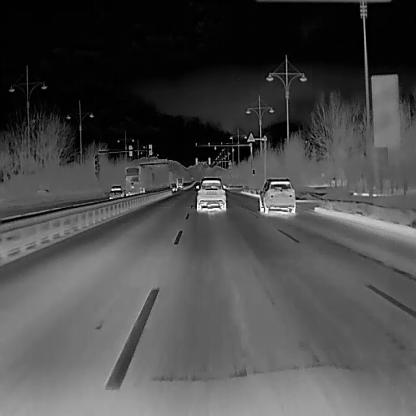car: (258, 176, 294, 216), (195, 176, 226, 212), (108, 183, 123, 200), (170, 182, 177, 190)
truck: (124, 166, 145, 195)
